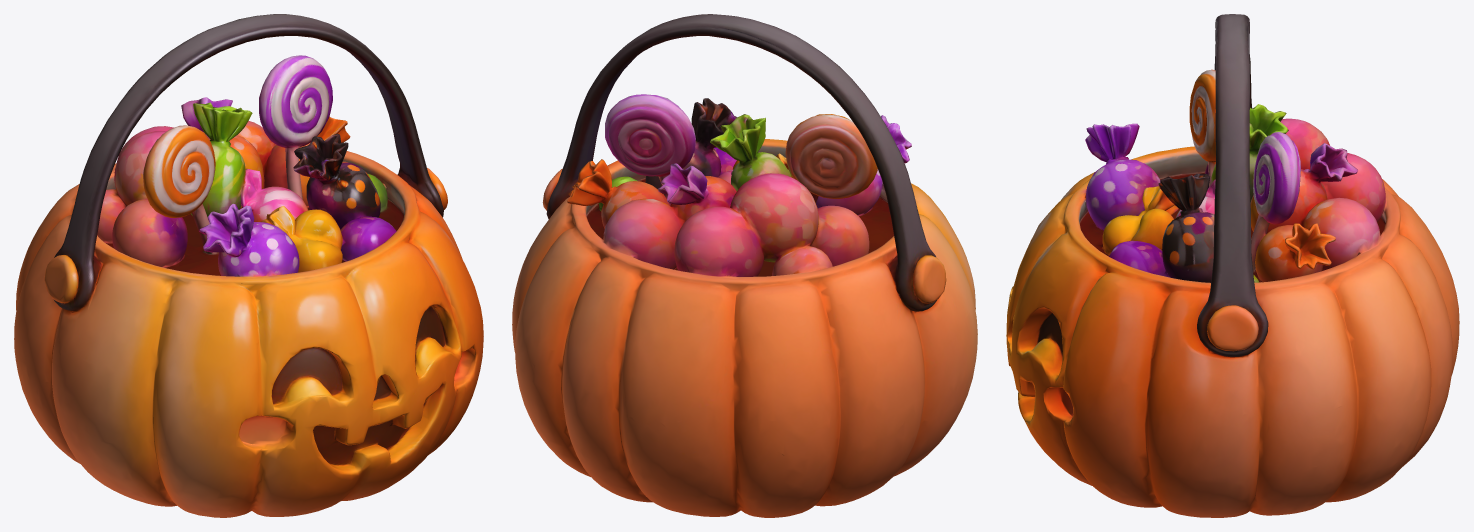
The model's file is candy_bucket.glb.
The picture shows the model from 3 angles, left to right: view 1: azimuth 30°, elevation 25°; view 2: azimuth 150°, elevation 25°; view 3: azimuth 270°, elevation 25°; orthographic projection.
Visible parts, largest first — view 1: tripo_node_0eaa732c-2e36-48ff-bb8e-ab378c3c9cfd; view 2: tripo_node_0eaa732c-2e36-48ff-bb8e-ab378c3c9cfd; view 3: tripo_node_0eaa732c-2e36-48ff-bb8e-ab378c3c9cfd.
Part boxes in pixels (<box>): tripo_node_0eaa732c-2e36-48ff-bb8e-ab378c3c9cfd: <box>14,14,483,517</box>; tripo_node_0eaa732c-2e36-48ff-bb8e-ab378c3c9cfd: <box>512,14,977,517</box>; tripo_node_0eaa732c-2e36-48ff-bb8e-ab378c3c9cfd: <box>1006,14,1459,517</box>.
Size of the model in its own units: 0.964 by 1 by 0.9649.
Materials: 1 (1 with a texture image).
